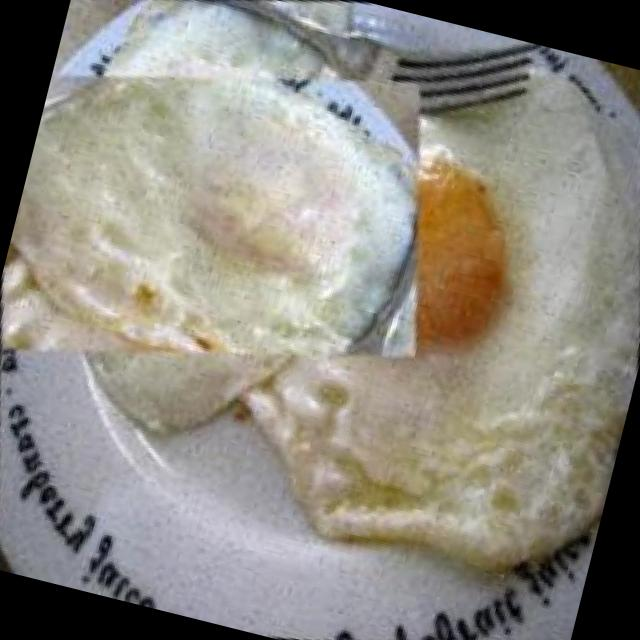fried_eggs: (186, 0, 640, 640), (0, 0, 460, 475)
